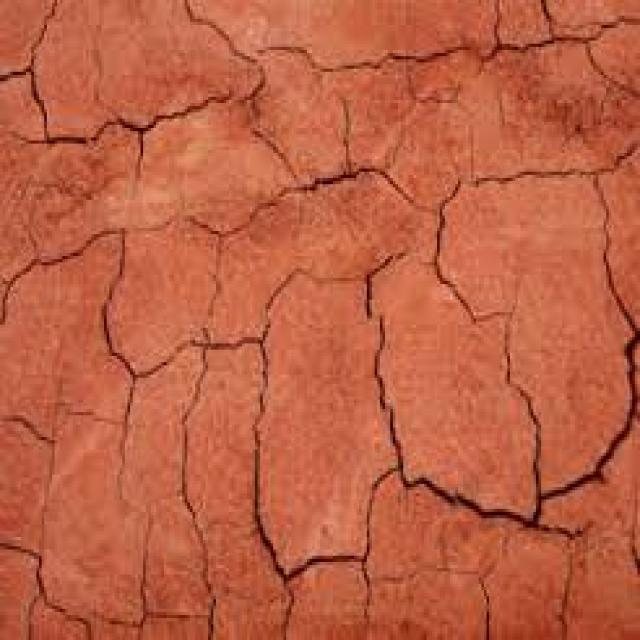Red Soil: (40, 47, 584, 569)
